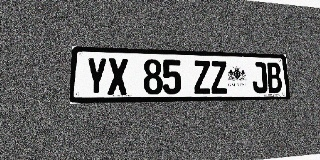5: (163, 59, 181, 94)
8: (143, 59, 163, 95)
B: (266, 62, 283, 93)
J: (251, 62, 268, 93)
X: (108, 58, 128, 95)
Y: (85, 57, 107, 95)
Z: (193, 60, 211, 94), (210, 61, 228, 94)
